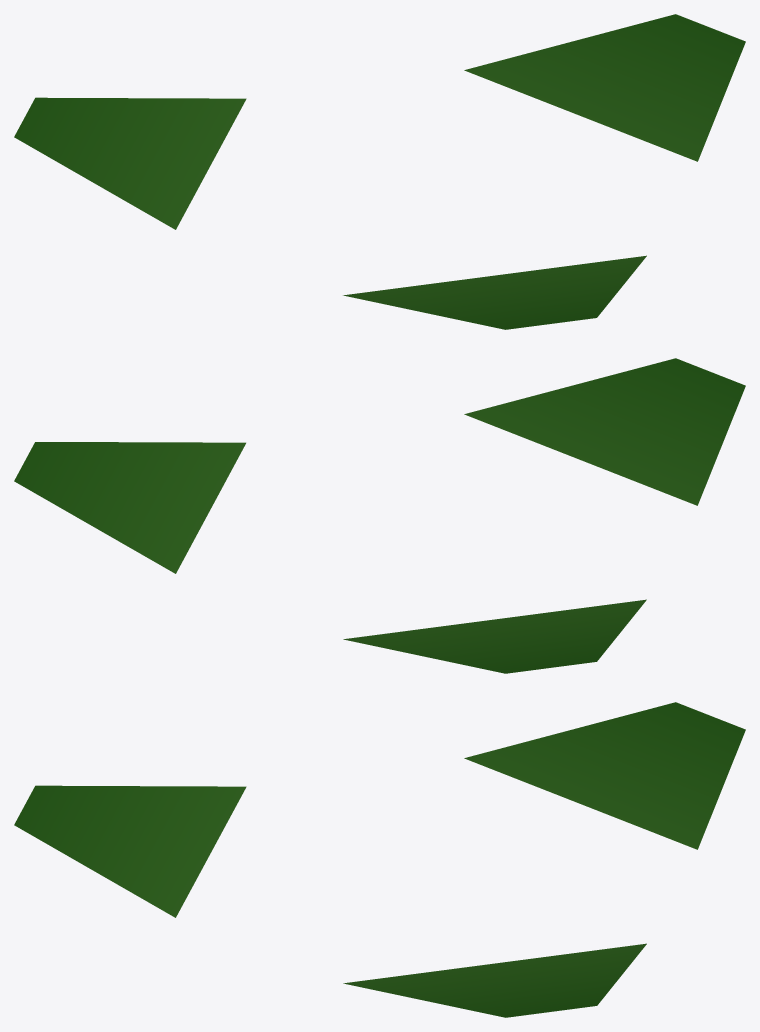
File: Accent_Clover.glb
The picture shows the model from 3 angles, top to bottom: view 1: azimuth 30°, elevation 25°; view 2: azimuth 150°, elevation 25°; view 3: azimuth 270°, elevation 25°; orthographic projection.
Visible parts, largest first — view 1: Accent_Clover; view 2: Accent_Clover; view 3: Accent_Clover.
Part boxes in pixels (x1,y1,x2,y2): Accent_Clover: (14,14,745,329); Accent_Clover: (14,358,745,673); Accent_Clover: (14,702,745,1017).
Bounding box in the file's own units: 0.0234 × 0.001 × 0.0229.
